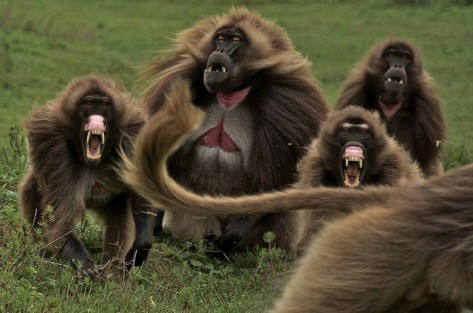Gelada: (147, 8, 326, 239), (20, 77, 155, 267), (308, 107, 410, 253), (351, 35, 449, 167)
